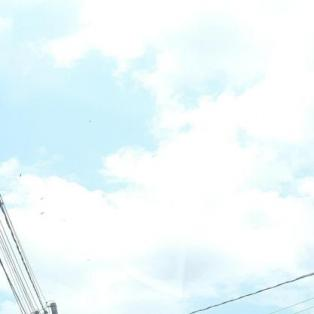Poste: (43, 298, 103, 314)
